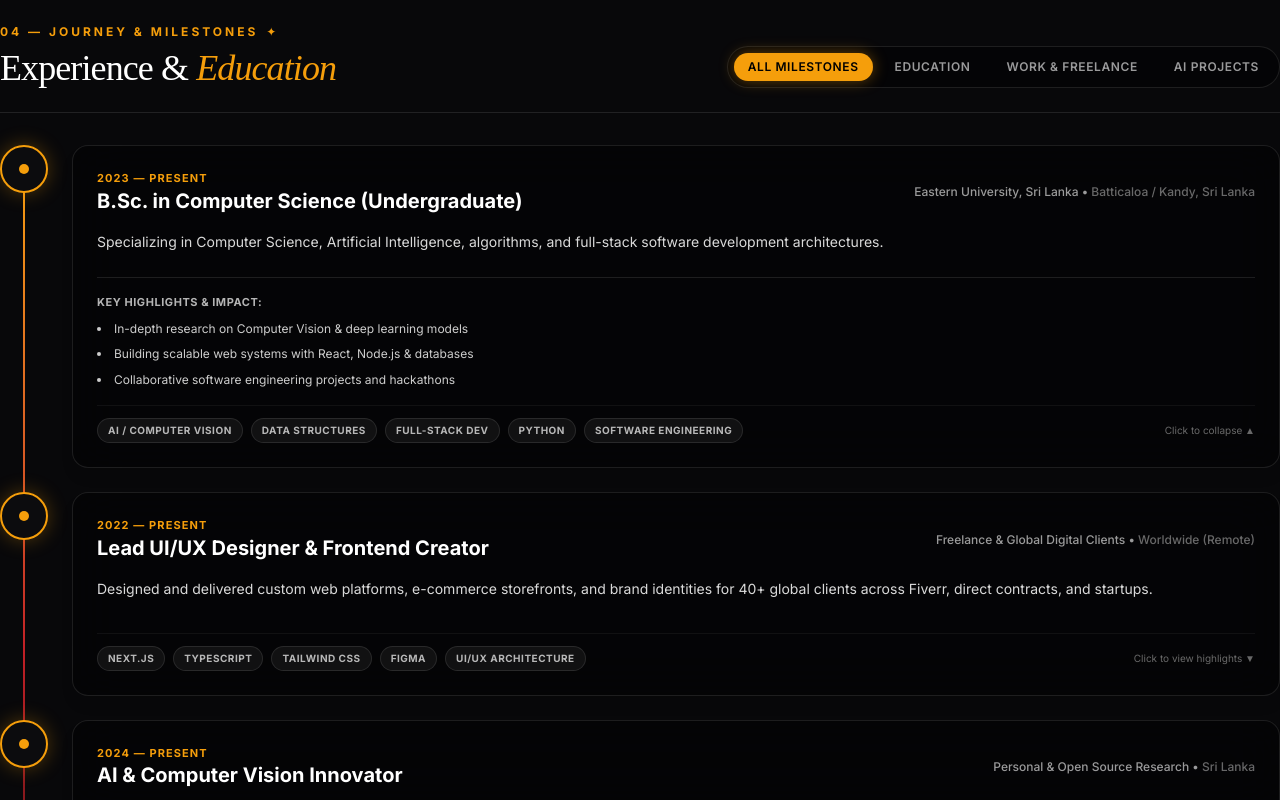
it: ExperienceTimeline Component › filters milestones by category
This screenshot has width=1280, height=800.
Click the button "Education".
click(932, 67)  # box top-left (880, 53), bottom-right (984, 81)
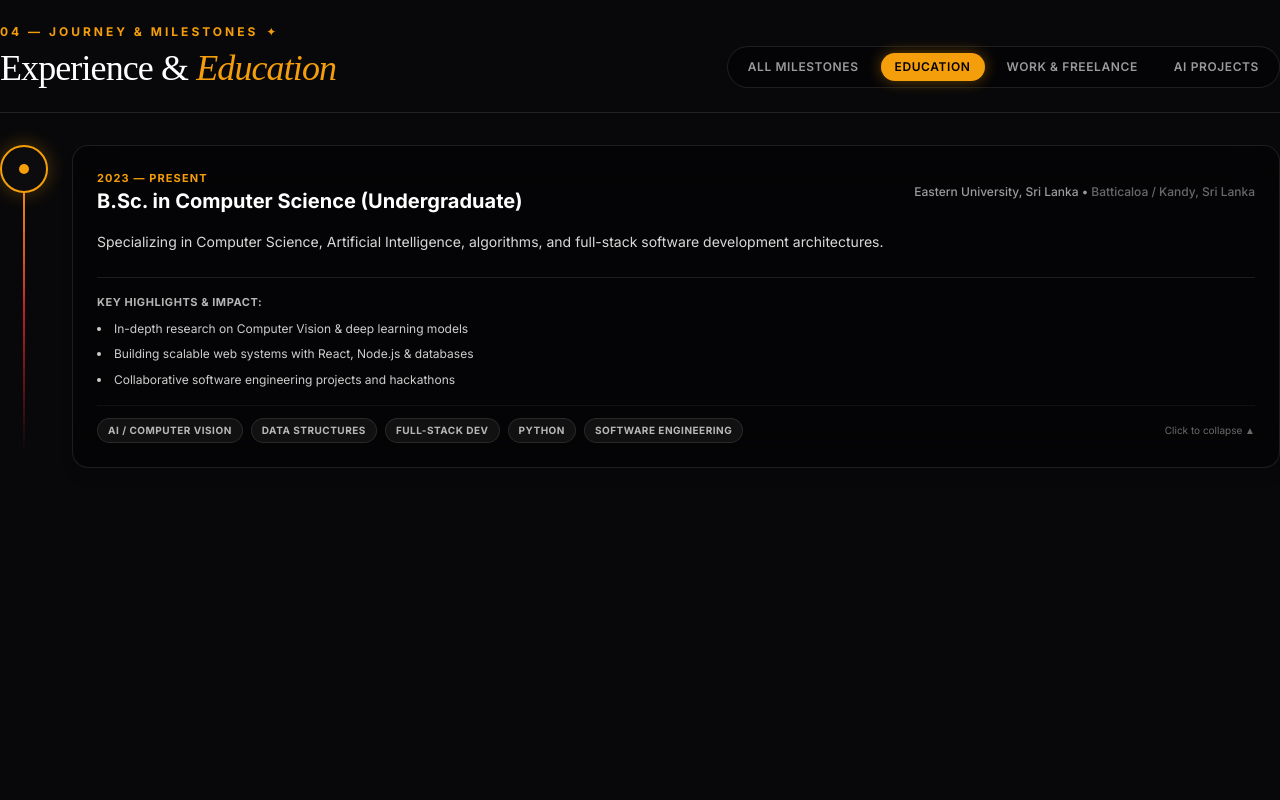
Expected: the text "Eastern University, Sri Lanka" is shown, top-left (914, 184), bottom-right (1078, 199)
Now the heading "Lead UI/UX Designer" is gone
